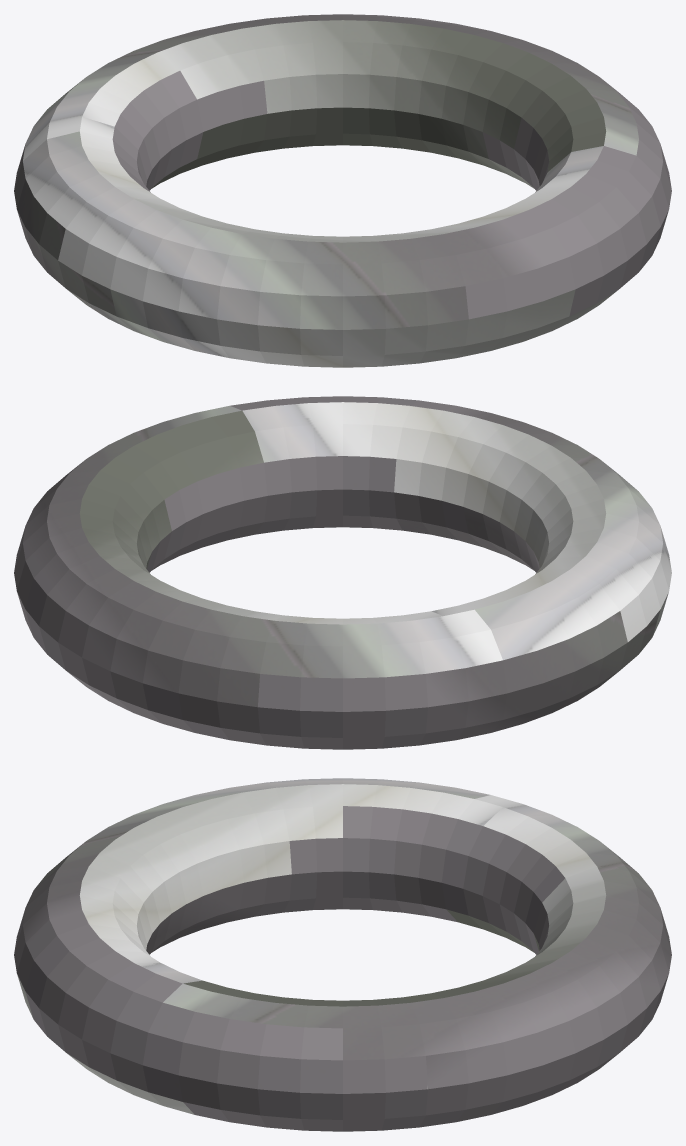
The model's file is metal.obj.
3 renders of one model, top to bottom at view 1: azimuth 30°, elevation 25°; view 2: azimuth 150°, elevation 25°; view 3: azimuth 270°, elevation 25°, orthographic.
Visible parts, largest first — view 1: Torus; view 2: Torus; view 3: Torus.
Part boxes in pixels (x1,y1,x2,y2): Torus: (14, 14, 671, 367); Torus: (14, 396, 671, 749); Torus: (14, 778, 671, 1131).
Bounding box in the file's own units: 2.5 × 0.5 × 2.5.
